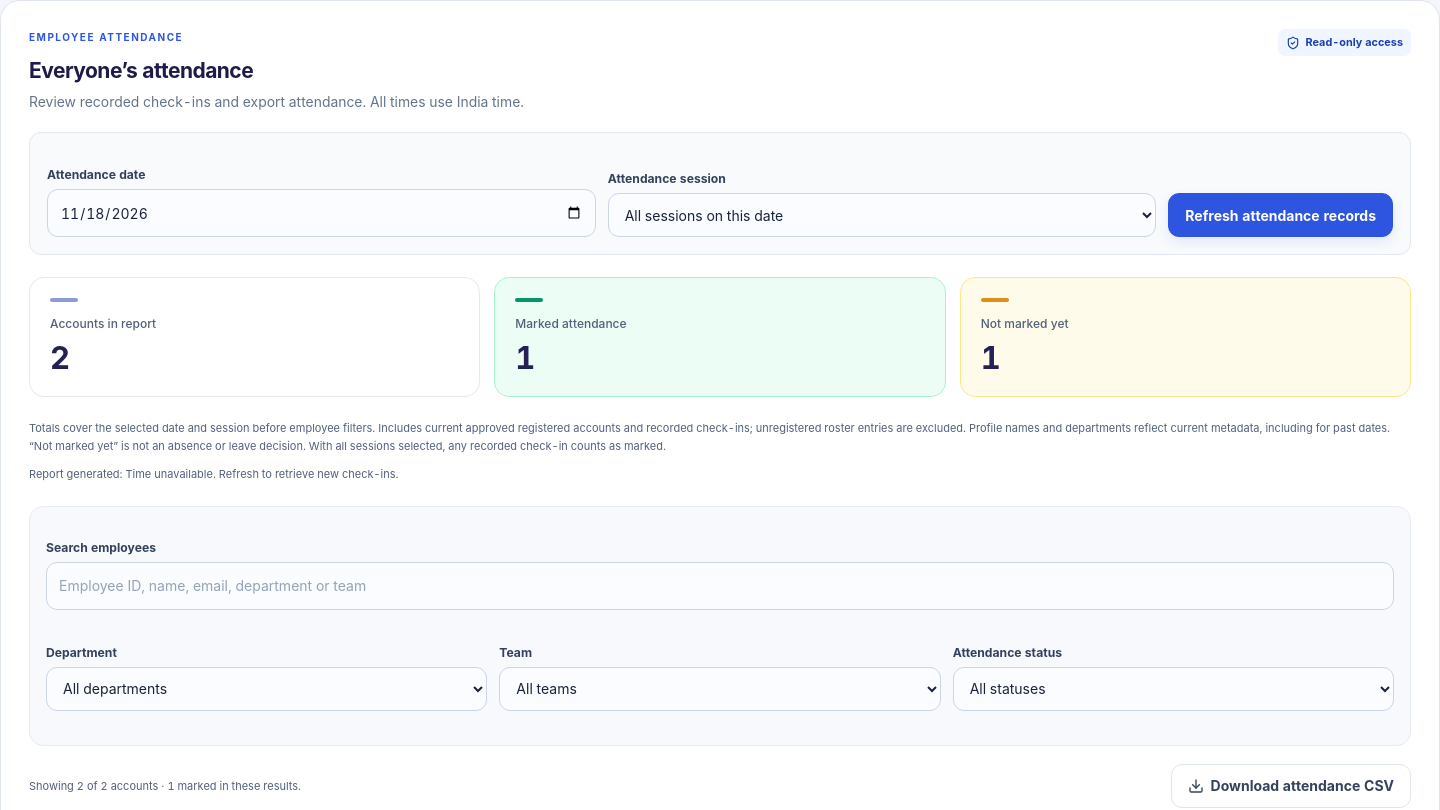
Test: clearing the date hides records and avoids an invalid attendance request
The image size is (1440, 810).
Clear the date field labelled "Attendance date". click: (321, 213)
box: [47, 189, 596, 237]
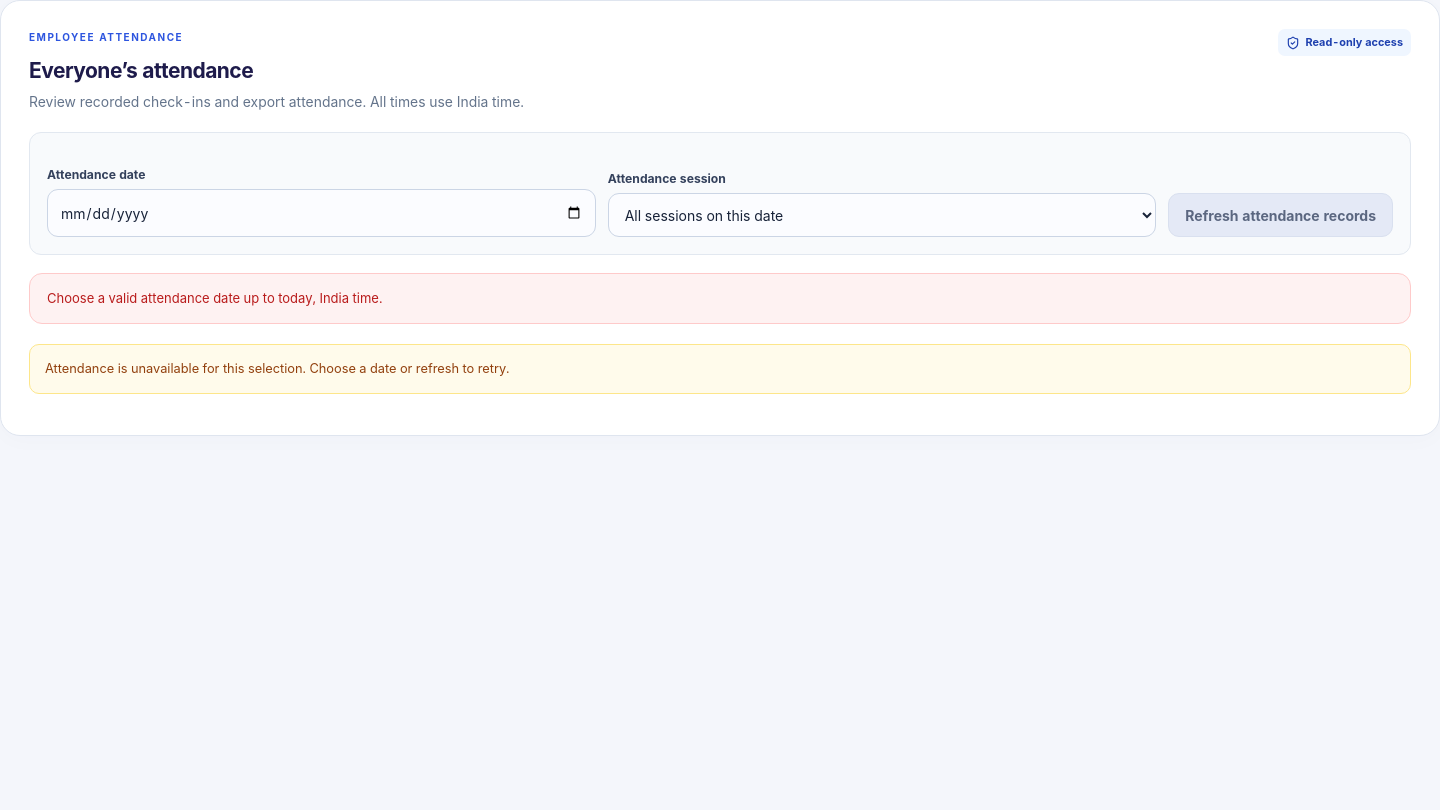
Expected: the message shows "Choose a valid attendance date", [47, 290, 382, 306]
